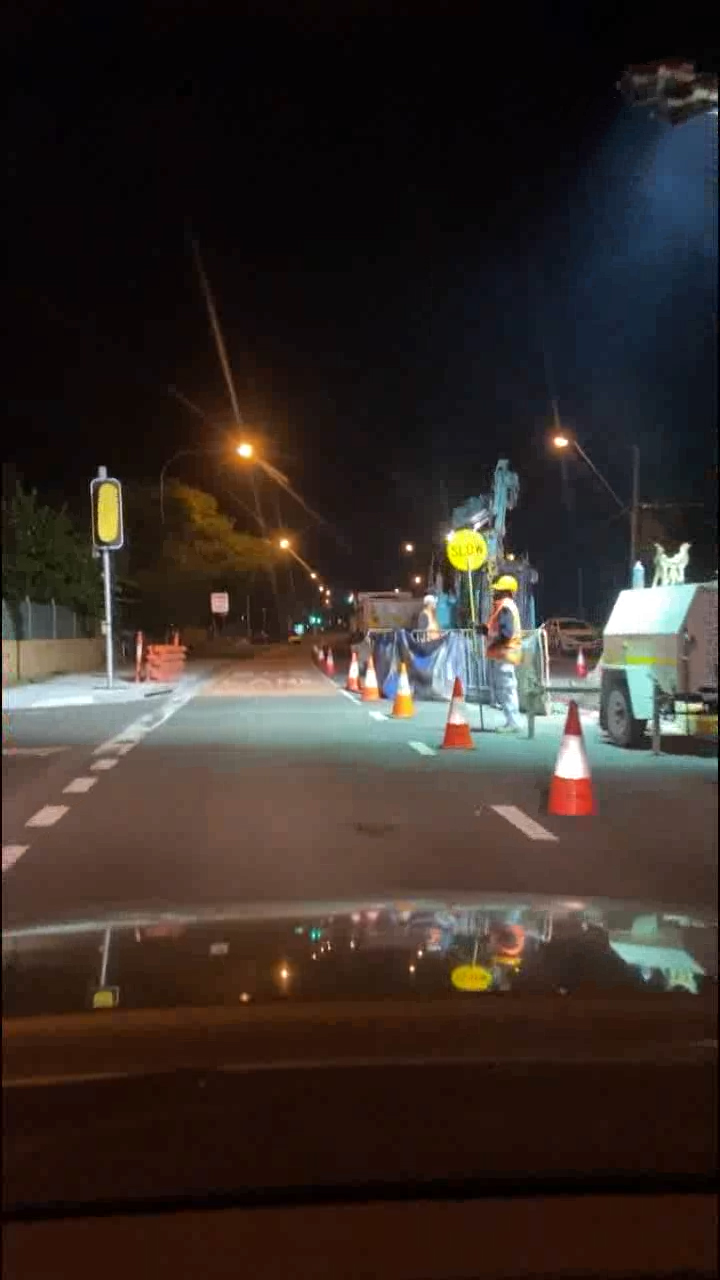person: (439, 527, 541, 740), (416, 586, 445, 638)
road cone: (537, 694, 606, 823), (135, 621, 193, 679), (345, 650, 377, 704)
